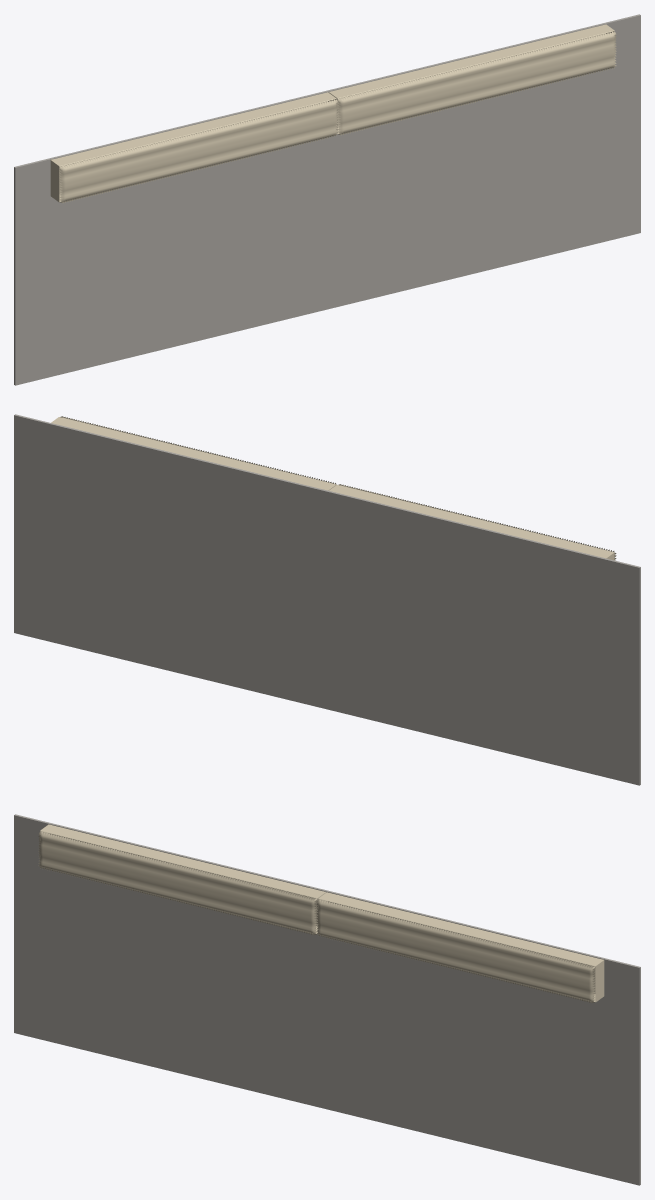
The model's file is terilgan.glb.
3 renders of one model, top to bottom at view 1: azimuth 30°, elevation 25°; view 2: azimuth 150°, elevation 25°; view 3: azimuth 330°, elevation 25°, orthographic.
Visible parts, largest first — view 1: Devor, t0, t1; view 2: Devor, t0, t1; view 3: Devor, t1, t0.
Part boxes in pixels (x1=…): Devor: x1=14, y1=14, x2=640, y2=385; t0: x1=50, y1=92, x2=338, y2=203; t1: x1=328, y1=24, x2=616, y2=135; Devor: x1=14, y1=414, x2=640, y2=785; t0: x1=329, y1=484, x2=616, y2=560; t1: x1=51, y1=416, x2=336, y2=490; Devor: x1=14, y1=814, x2=640, y2=1185; t1: x1=316, y1=892, x2=604, y2=1003; t0: x1=38, y1=824, x2=326, y2=935.
Size of the model in its own units: 2.71 by 0.9 by 0.0918.
